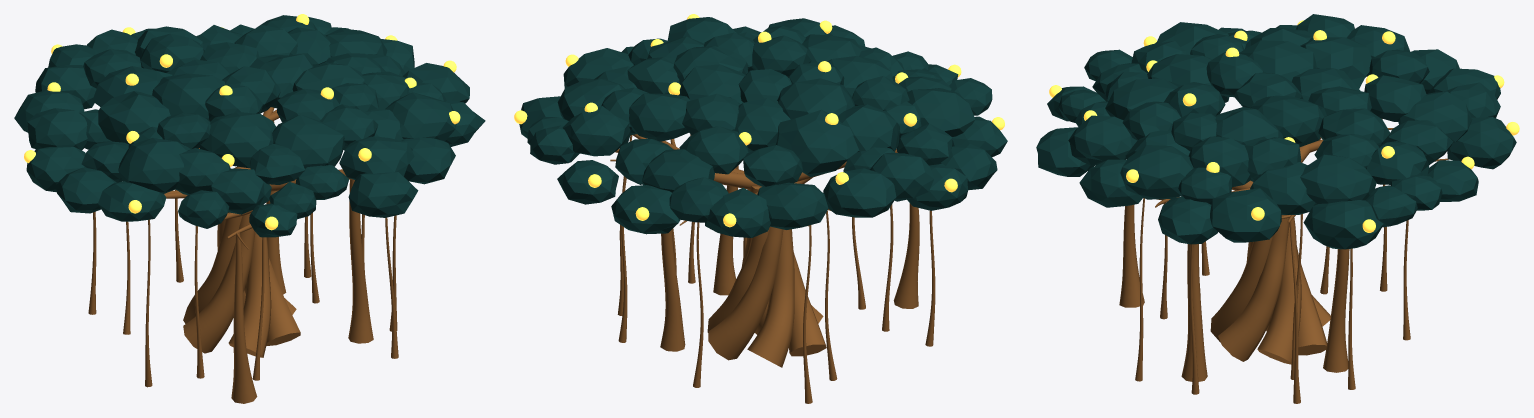
Rendered from banyan.glb.
3 renders of one model, left to right at view 1: azimuth 30°, elevation 25°; view 2: azimuth 150°, elevation 25°; view 3: azimuth 270°, elevation 25°, orthographic.
Visible parts, largest first — view 1: canopy, roots, trunk; view 2: canopy, trunk, roots; view 3: canopy, trunk, roots.
Part boxes in pixels (x1,y1,x2,y2): canopy: (14, 15, 485, 237); roots: (88, 112, 398, 403); trunk: (164, 107, 353, 357); canopy: (519, 17, 1007, 237); trunk: (610, 134, 897, 367); roots: (617, 134, 935, 403); canopy: (1036, 14, 1516, 249); trunk: (1155, 128, 1448, 364); roots: (1119, 118, 1410, 403).
Size of the model in its own units: 1.99 by 1.29 by 2.
